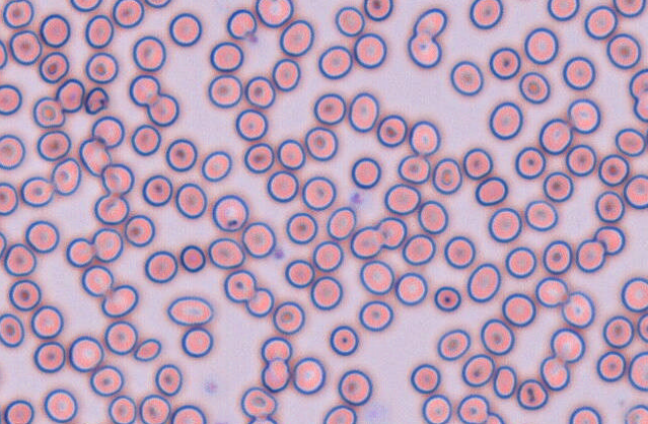PLT: (348, 190, 367, 208), (272, 249, 286, 261)
RBC: (166, 295, 213, 326), (466, 262, 501, 302), (211, 194, 248, 231), (488, 101, 523, 140), (78, 136, 111, 176), (241, 221, 276, 258), (68, 335, 103, 372), (479, 318, 514, 355), (523, 27, 558, 64), (279, 19, 314, 56), (561, 290, 595, 328), (550, 327, 585, 363), (337, 369, 372, 405), (606, 33, 641, 69), (538, 117, 572, 154), (292, 356, 325, 394), (348, 92, 379, 132), (359, 259, 394, 294), (301, 175, 336, 210), (487, 207, 522, 242), (407, 32, 441, 68), (132, 35, 166, 71), (101, 284, 138, 317), (43, 388, 77, 423), (207, 74, 242, 108), (304, 126, 338, 161), (9, 29, 42, 65), (353, 32, 386, 68), (450, 60, 483, 96), (567, 98, 600, 134), (240, 386, 277, 418), (208, 237, 245, 269), (50, 157, 81, 195), (104, 320, 138, 354), (25, 219, 59, 253), (461, 353, 495, 387), (501, 292, 535, 326), (318, 45, 352, 79), (168, 12, 202, 46), (30, 304, 63, 339), (562, 55, 595, 90), (93, 193, 129, 225), (384, 183, 420, 215), (175, 182, 207, 218), (3, 242, 36, 276), (146, 92, 179, 126), (394, 271, 427, 305), (584, 5, 617, 39), (144, 250, 178, 283), (36, 129, 71, 161), (91, 227, 123, 262), (310, 275, 342, 310), (408, 120, 440, 155), (432, 157, 462, 194), (223, 269, 256, 302), (101, 162, 134, 195), (8, 278, 41, 311), (350, 226, 383, 259), (91, 115, 124, 148), (313, 92, 346, 125), (272, 301, 305, 334), (413, 7, 447, 39), (401, 233, 435, 265), (524, 199, 558, 231), (358, 300, 393, 331), (89, 365, 124, 396), (539, 355, 570, 390), (375, 216, 407, 249), (32, 96, 65, 128), (165, 138, 197, 171), (437, 328, 470, 360), (85, 51, 118, 83), (443, 235, 475, 268), (488, 46, 520, 79), (602, 315, 634, 348), (235, 108, 268, 140), (535, 276, 569, 307), (20, 176, 54, 207), (39, 13, 70, 47), (417, 200, 448, 234), (209, 41, 243, 72), (260, 357, 290, 392), (542, 239, 572, 274), (255, 0, 293, 27), (81, 264, 113, 296), (33, 341, 65, 373), (516, 378, 548, 410), (285, 212, 317, 244), (504, 246, 536, 278), (266, 170, 298, 202), (518, 71, 550, 103), (124, 214, 155, 247), (598, 153, 629, 186), (514, 146, 545, 179), (594, 190, 625, 223), (376, 114, 407, 147), (244, 75, 275, 108), (565, 143, 596, 176), (326, 206, 356, 240), (575, 238, 605, 272), (474, 176, 508, 206), (129, 74, 160, 106), (181, 326, 213, 357), (38, 51, 69, 83), (130, 123, 161, 155), (462, 147, 493, 179), (456, 393, 489, 423), (397, 154, 430, 184), (55, 78, 84, 112), (469, 0, 503, 29), (84, 14, 113, 48), (620, 276, 647, 312), (312, 240, 343, 271), (243, 142, 274, 173), (542, 171, 573, 202), (201, 150, 232, 181), (593, 225, 625, 255), (142, 174, 172, 206), (596, 350, 626, 382), (351, 156, 381, 188), (138, 394, 171, 423), (271, 58, 300, 91), (334, 5, 364, 36), (614, 127, 646, 156), (276, 138, 305, 170), (154, 363, 182, 396), (65, 237, 95, 267), (0, 133, 25, 169), (410, 363, 440, 393), (421, 394, 452, 423), (329, 324, 358, 355), (2, 0, 34, 28), (112, 0, 144, 28), (245, 287, 274, 317), (284, 259, 314, 288), (260, 336, 292, 363), (0, 312, 24, 347), (623, 174, 647, 209), (492, 365, 517, 398), (107, 395, 136, 423), (628, 351, 647, 391), (433, 285, 461, 311), (179, 244, 205, 272), (4, 399, 34, 423), (0, 83, 22, 115), (170, 404, 206, 423), (547, 0, 579, 21), (322, 404, 357, 423), (363, 0, 393, 21), (0, 181, 18, 215), (568, 405, 601, 423), (629, 68, 647, 99), (613, 0, 645, 17), (633, 89, 647, 122), (624, 404, 647, 423), (69, 0, 102, 12), (636, 312, 647, 342), (0, 39, 8, 69), (484, 411, 504, 423), (248, 415, 277, 423), (144, 0, 171, 8), (0, 231, 7, 259)
Schistocyte: (226, 9, 257, 39), (133, 338, 162, 361), (85, 87, 108, 115)
